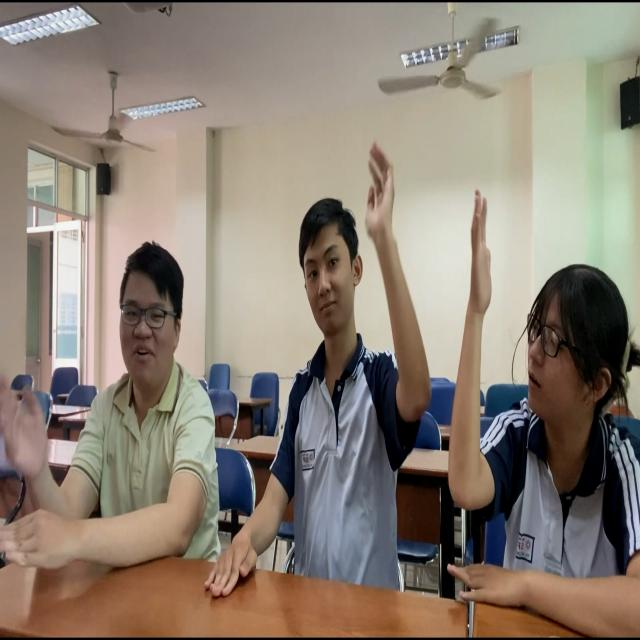raise_hand: (433, 148, 640, 640)
